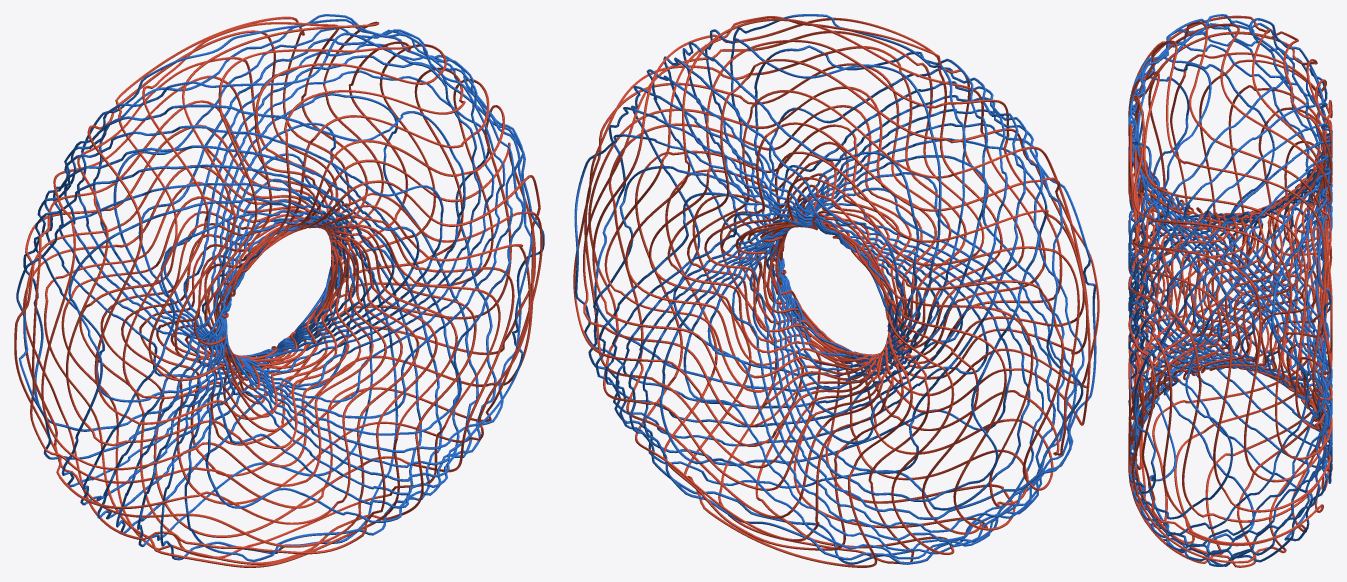
File: meshed_torus_II_chiral_e070_n4_de015.tube.obj
3 views of the same model, side by side, from view 1: azimuth 30°, elevation 25°; view 2: azimuth 150°, elevation 25°; view 3: azimuth 270°, elevation 25° (orthographic). The views are drawn at different scales.
Parts seen in each view (by area): view 1: B, A; view 2: B, A; view 3: B, A.
Part boxes in pixels (left/top/right/bottom): B: left=14, top=16, right=542, bottom=567; A: left=16, top=14, right=544, bottom=562; B: left=573, top=16, right=1099, bottom=567; A: left=574, top=14, right=1096, bottom=564; B: left=1128, top=15, right=1332, bottom=567; A: left=1128, top=14, right=1332, bottom=566.
Bounding box in the file's own units: 2 × 1.99 × 0.7407.
